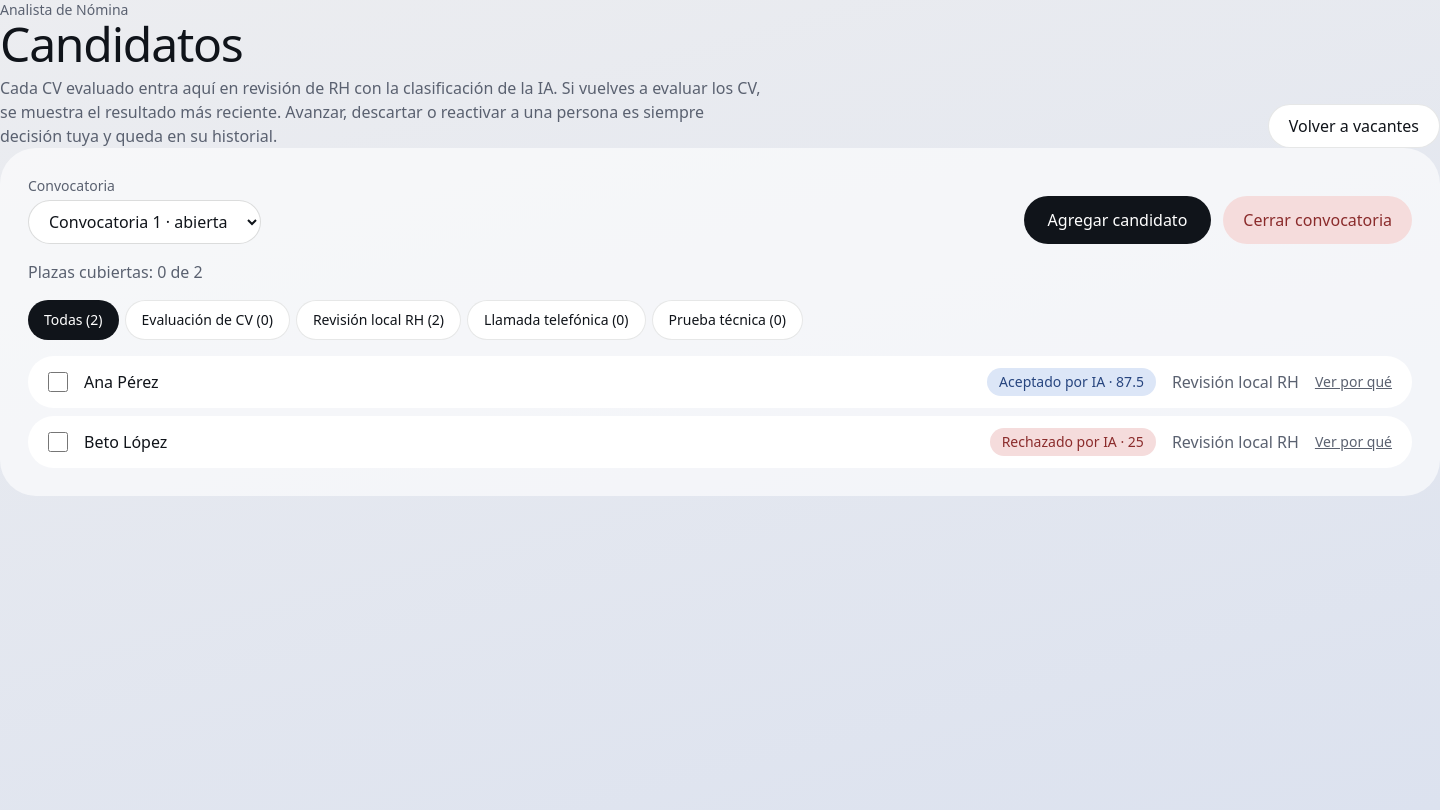
Scenario: CandidatesWorkspace › abre el expediente con historial, evaluación y permanencia
Click the button "Ana Pérez" at (121, 382), box left=84, top=370, right=971, bottom=394
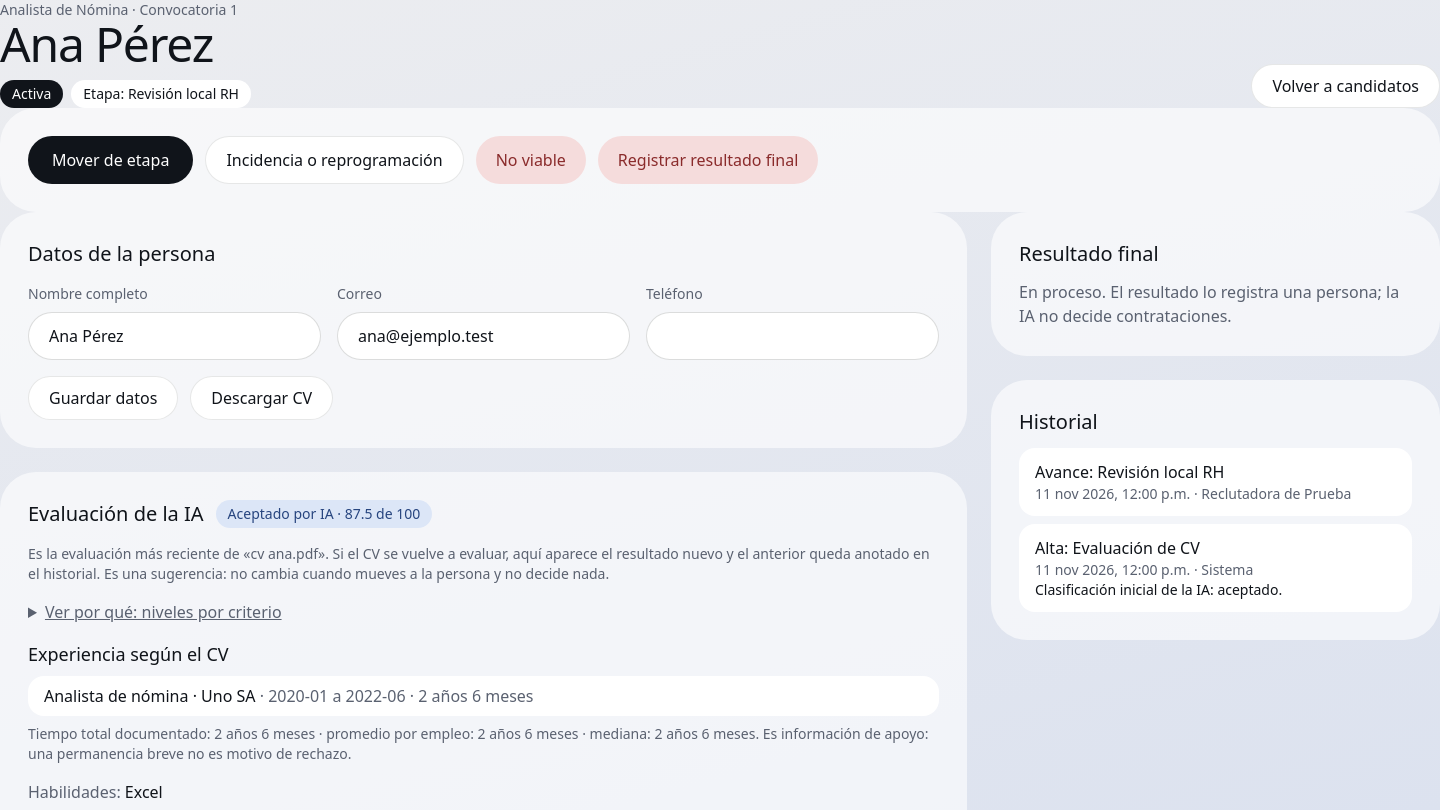
Expected: the heading "Ana Pérez" is shown, left=0, top=11, right=213, bottom=76
Expected: the list item that starts with "Avance" shows "Avance: Revisión local RH", left=1019, top=448, right=1412, bottom=516
Expected: the list item that starts with "Avance" shows "Reclutadora de Prueba", left=1201, top=484, right=1351, bottom=503
